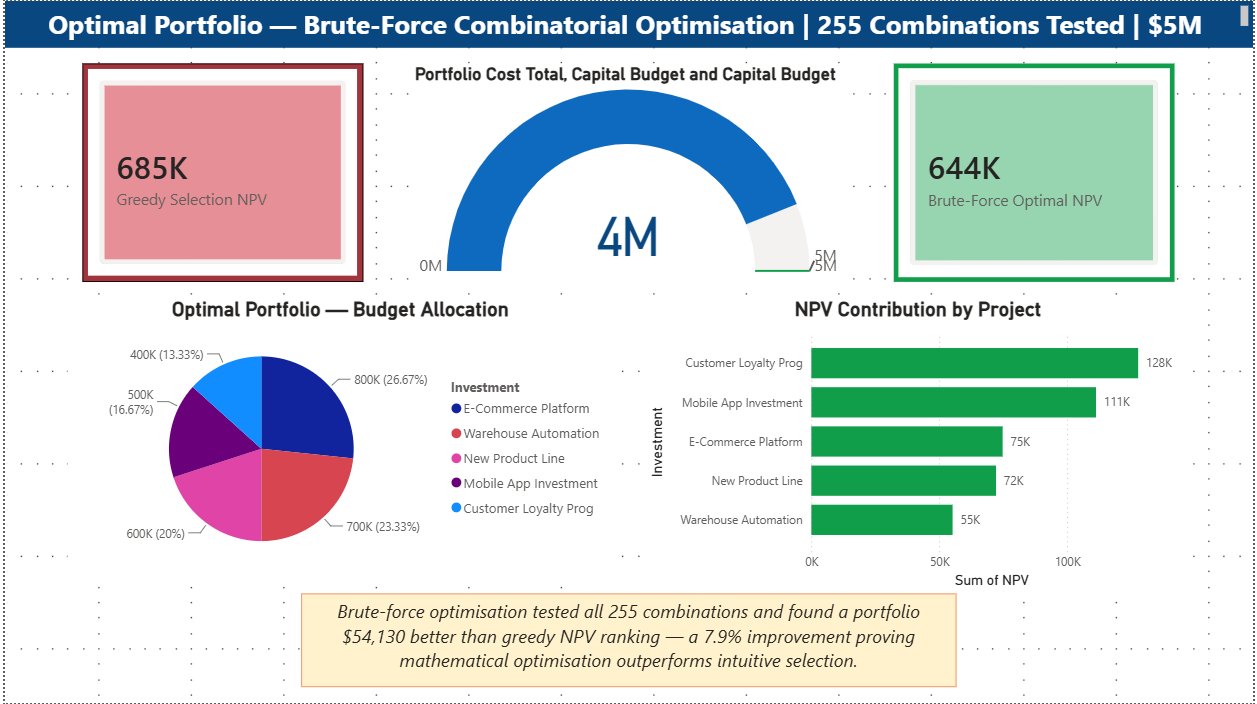

The dashboard page shown, as its layout file describes it:
{"tool":"powerbi","page":{"name":"Portfolio Optimisation","canvas":[1280,720],"ordinal":3},"visuals":[{"type":"textbox","box":[0,0,1280,48],"z":0},{"type":"gauge","fields":{"Y":["Advanced_KPIs.Portfolio Cost Total"],"MaxValue":["Advanced_KPIs.Capital Budget"],"TargetValue":["Advanced_KPIs.Capital Budget"]},"box":[416,64,448,224],"z":1000},{"type":"pieChart","title":"Optimal Portfolio — Budget Allocation","fields":{"Category":["investment_results.Investment"],"Y":["Sum(investment_results.Cost)"]},"box":[64,304,560,288],"z":2000},{"type":"clusteredBarChart","title":"NPV Contribution by Project","fields":{"Category":["investment_results.Investment"],"Y":["Sum(investment_results.NPV)"]},"box":[656,304,560,304],"z":3000},{"type":"cardVisual","fields":{"Data":["Advanced_KPIs.Greedy Selection NPV"]},"box":[80,64,288,224],"z":4000},{"type":"cardVisual","fields":{"Data":["Advanced_KPIs.Portfolio NPV Total"]},"box":[912,64,288,224],"z":5000},{"type":"textbox","box":[304,608,672,96],"z":6000}]}

Visuals, with their boxes in screenshot pixels (x1, y1, x2, y2), scaled from the page's 1280x720 canvas onto the 1257x704 screenshot:
textbox: <box>0,0,1256,47</box>
gauge - Advanced_KPIs.Portfolio Cost Total x Advanced_KPIs.Capital Budget: <box>409,63,848,282</box>
"Optimal Portfolio — Budget Allocation" pieChart: <box>63,297,613,579</box>
"NPV Contribution by Project" clusteredBarChart: <box>644,297,1194,594</box>
cardVisual - Advanced_KPIs.Greedy Selection NPV: <box>79,63,361,282</box>
cardVisual - Advanced_KPIs.Portfolio NPV Total: <box>896,63,1178,282</box>
textbox: <box>299,594,958,688</box>
